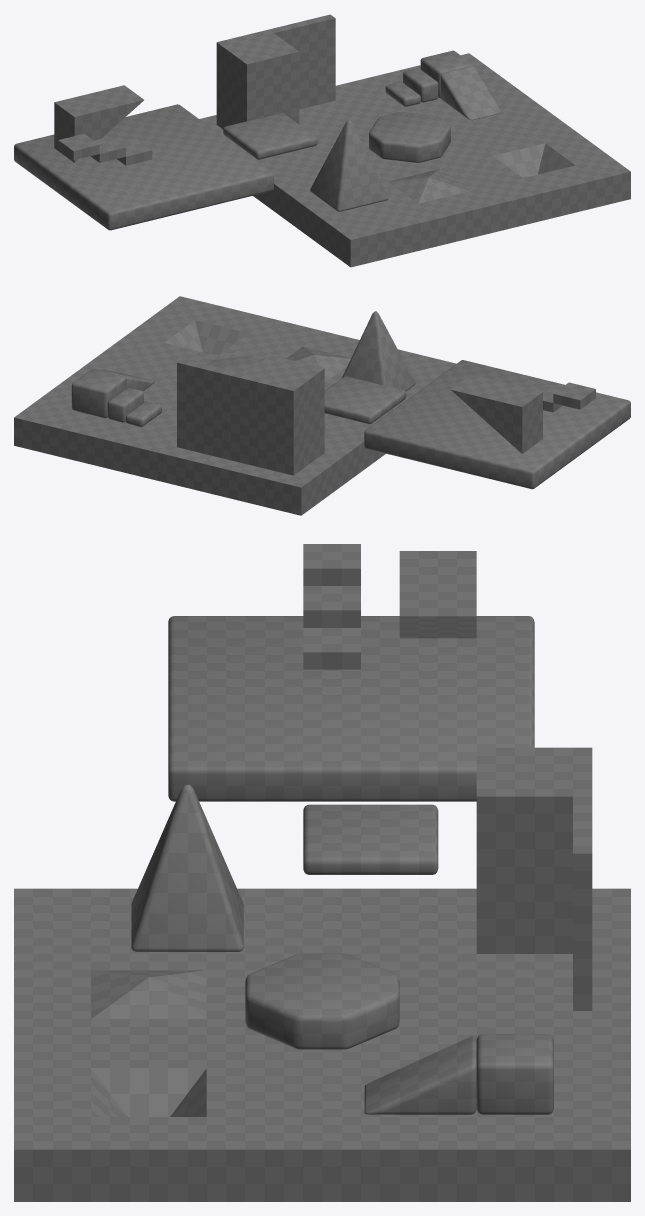
The model's file is CollisionTest2.obj.
3 renders of one model, top to bottom at view 1: azimuth 30°, elevation 25°; view 2: azimuth 150°, elevation 25°; view 3: azimuth 270°, elevation 25°, orthographic. The views are drawn at different scales.
Parts seen in each view (by area): view 1: entity0_brush10, entity0_brush14, entity0_brush5, entity0_brush9, entity0_brush11, entity0_brush7, entity0_brush6, entity0_brush4, entity0_brush15, entity0_brush13, entity0_brush1, entity0_brush12 (+7 smaller); view 2: entity0_brush10, entity0_brush14, entity0_brush5, entity0_brush9, entity0_brush6, entity0_brush11, entity0_brush15, entity0_brush7, entity0_brush13, entity0_brush12, entity0_brush0, entity0_brush8 (+6 smaller); view 3: entity0_brush10, entity0_brush14, entity0_brush9, entity0_brush5, entity0_brush11, entity0_brush7, entity0_brush4, entity0_brush13, entity0_brush15, entity0_brush0, entity0_brush1, entity0_brush8 (+5 smaller).
Boxes of the visible parts, x1,y1,x2,y2 form: entity0_brush10: (199, 74, 568, 267); entity0_brush14: (14, 104, 273, 230); entity0_brush5: (216, 29, 299, 129); entity0_brush9: (461, 53, 630, 213); entity0_brush11: (382, 65, 545, 177); entity0_brush7: (310, 120, 387, 211); entity0_brush6: (269, 14, 335, 109); entity0_brush4: (369, 112, 450, 162); entity0_brush15: (54, 85, 143, 162); entity0_brush13: (223, 113, 317, 159); entity0_brush1: (440, 66, 501, 120); entity0_brush12: (523, 165, 595, 213); entity0_brush10: (77, 318, 456, 515); entity0_brush14: (364, 360, 630, 489); entity0_brush5: (240, 355, 324, 475); entity0_brush9: (14, 296, 214, 460); entity0_brush6: (177, 359, 244, 462); entity0_brush11: (50, 343, 217, 460); entity0_brush15: (450, 374, 542, 453); entity0_brush7: (342, 311, 415, 391); entity0_brush13: (324, 376, 406, 424); entity0_brush12: (195, 305, 268, 355); entity0_brush0: (71, 369, 125, 418); entity0_brush8: (286, 346, 350, 382); entity0_brush10: (14, 888, 630, 1116); entity0_brush14: (168, 616, 534, 801); entity0_brush9: (14, 1117, 630, 1201); entity0_brush5: (476, 747, 592, 953); entity0_brush11: (170, 1068, 630, 1116); entity0_brush7: (131, 784, 243, 951); entity0_brush4: (245, 953, 399, 1049); entity0_brush13: (303, 804, 438, 874); entity0_brush15: (399, 551, 476, 638); entity0_brush0: (476, 1034, 553, 1114); entity0_brush1: (364, 1036, 476, 1114); entity0_brush8: (91, 970, 206, 1018).
Bounding box in the file's own units: 880 × 208 × 512.
1 material, 1 textured.
